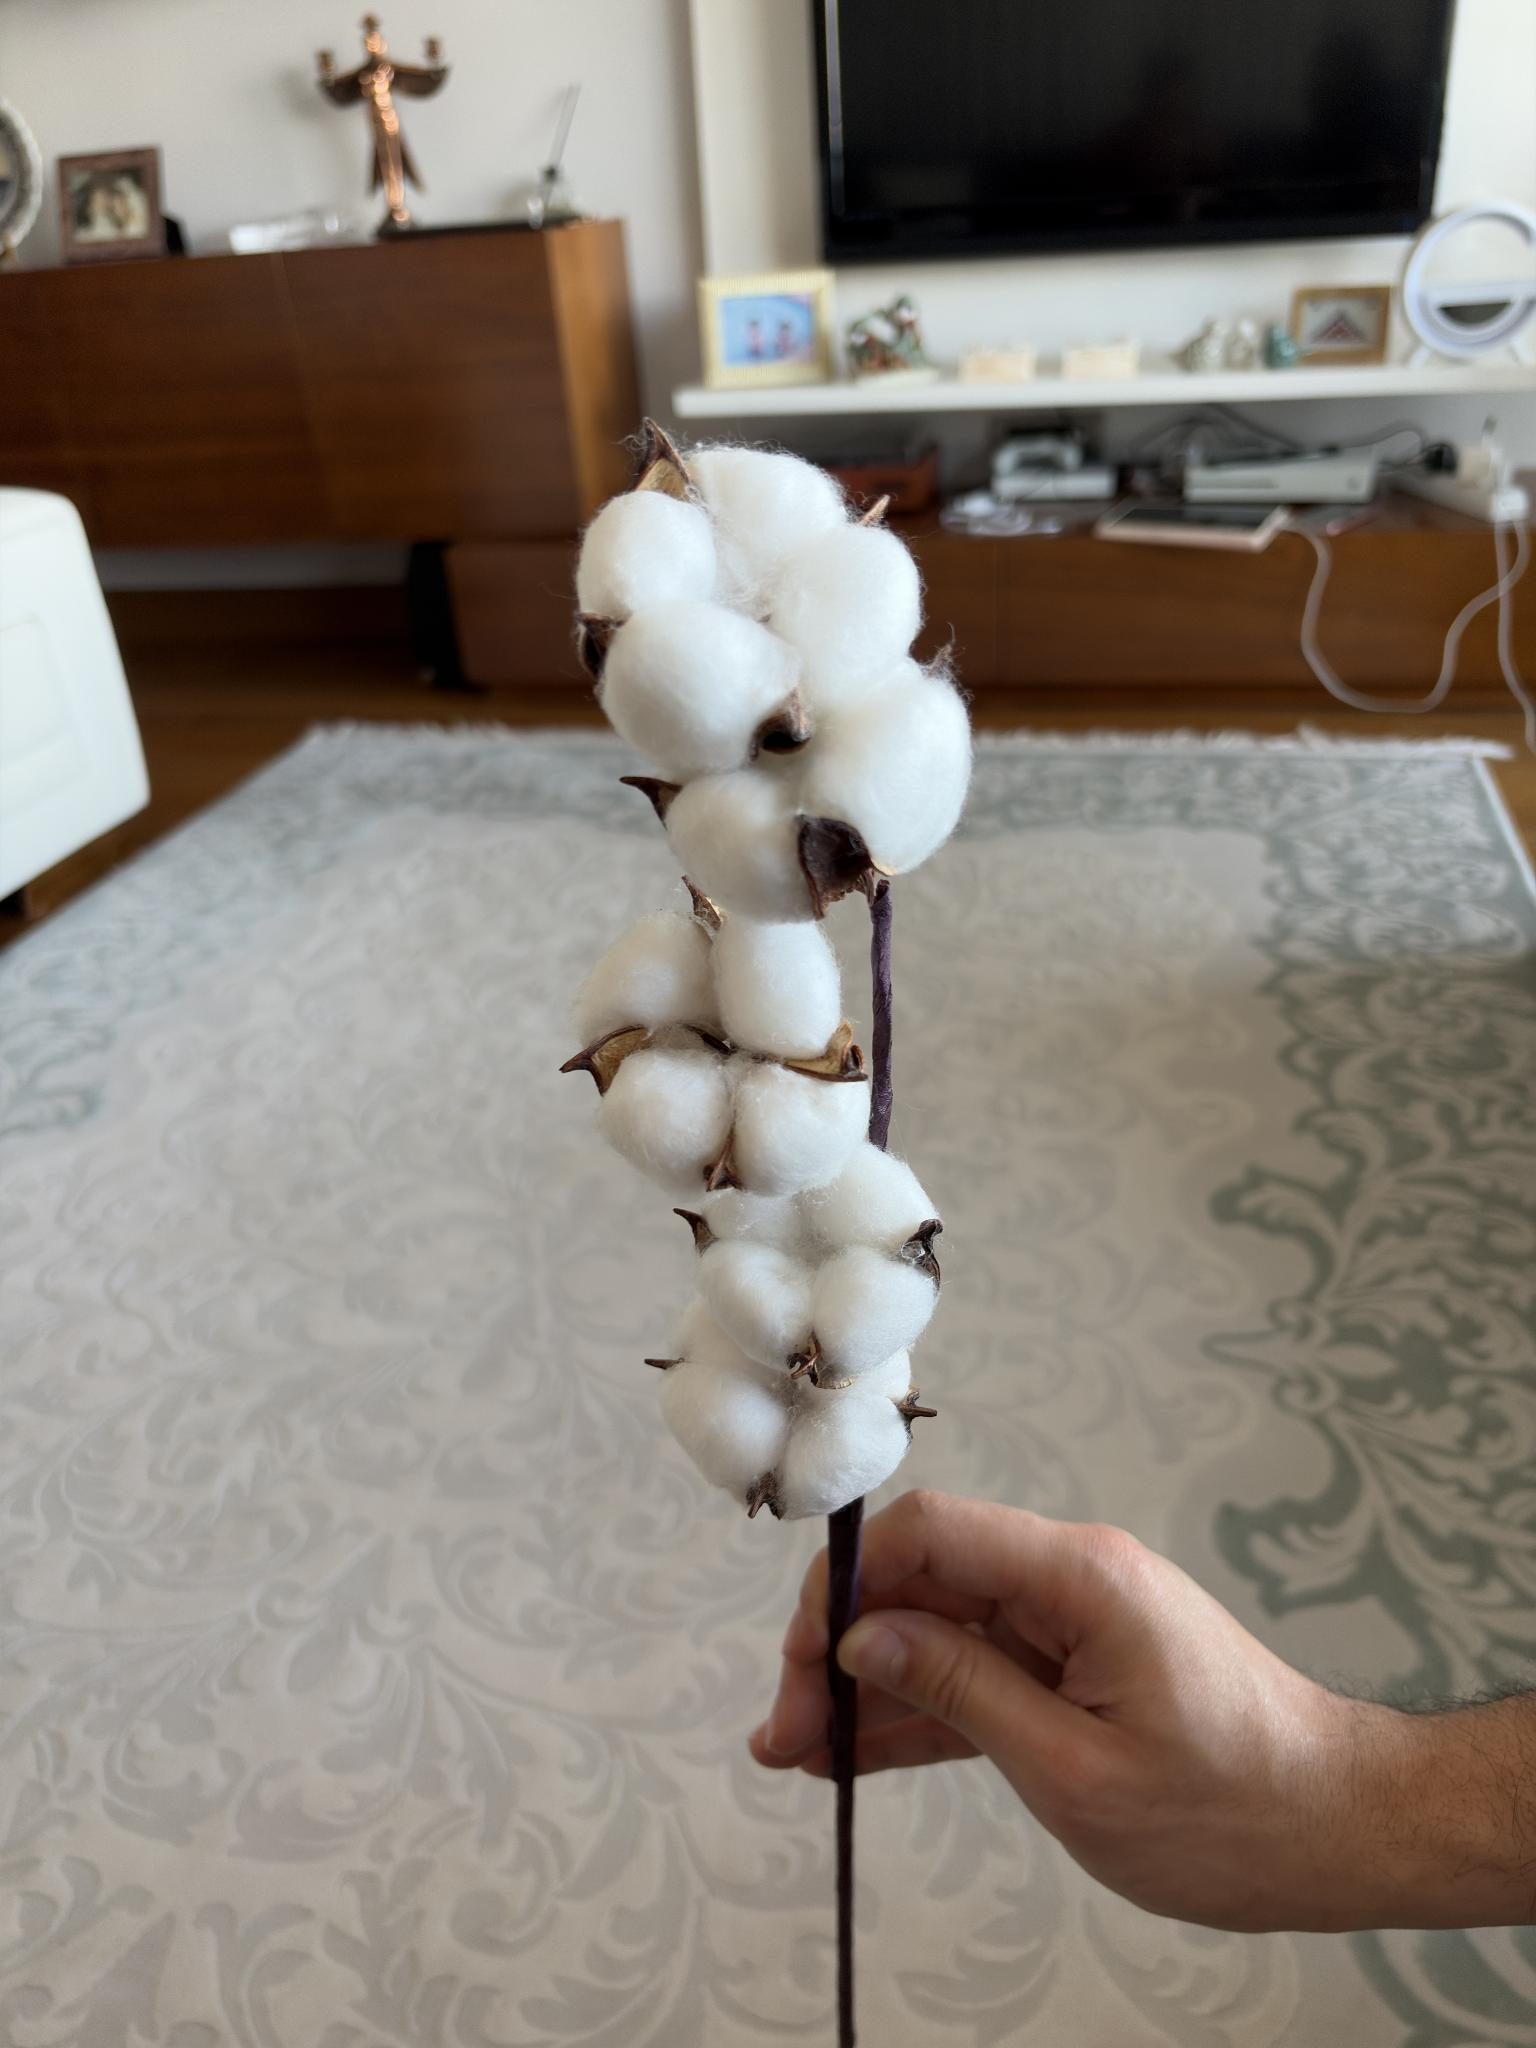cotton_boll: (602, 600, 800, 784), (802, 664, 971, 872), (768, 524, 921, 710), (689, 447, 847, 597), (665, 766, 813, 922), (597, 1048, 733, 1195), (731, 1055, 868, 1195), (573, 911, 720, 1042), (712, 914, 842, 1059), (576, 490, 716, 622), (660, 1361, 789, 1501), (778, 1392, 910, 1519), (812, 1247, 937, 1380), (799, 1142, 936, 1253), (700, 1237, 813, 1367), (668, 1297, 783, 1384), (700, 1190, 808, 1255), (849, 1350, 910, 1401)
cotton_boll-cluster: (566, 432, 979, 929), (566, 901, 879, 1203), (689, 1130, 949, 1387), (658, 1276, 925, 1524)
